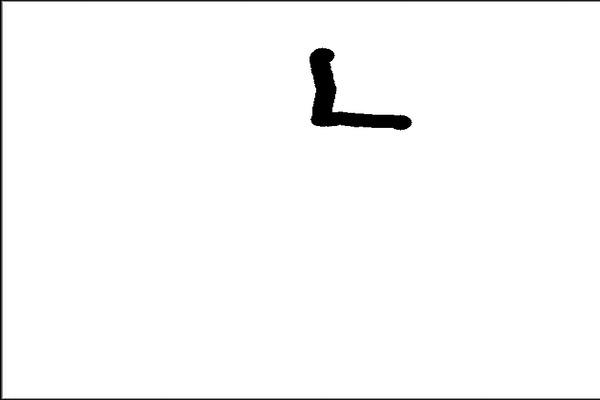L: (299, 40, 417, 138)
